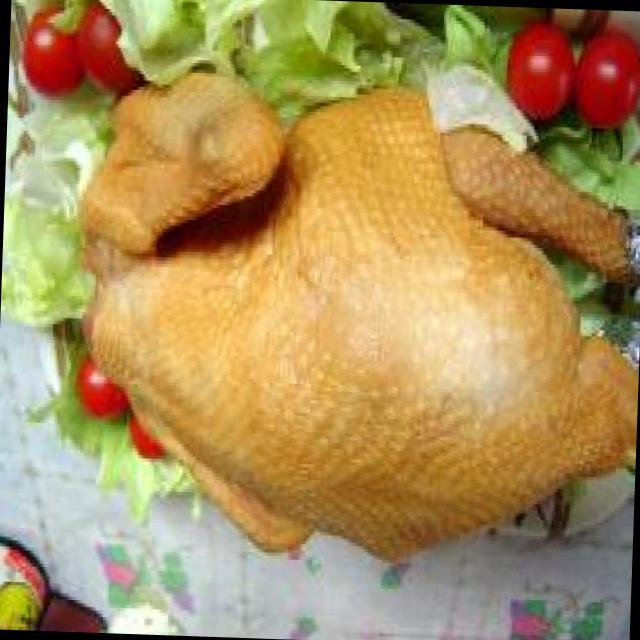Chicken: (78, 100, 640, 586)
